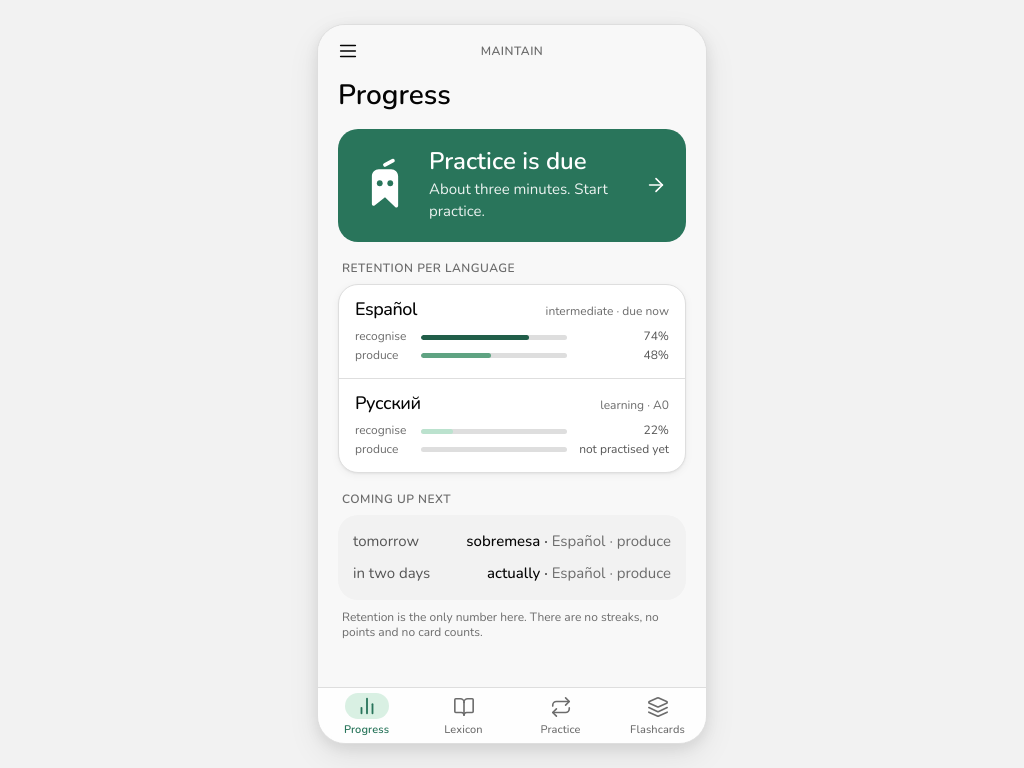
Test: the side panel › holds mode, what is up next and the languages, and closes on Escape
Click the button named "Open the side panel" at (348, 51), box [326,29,370,73]
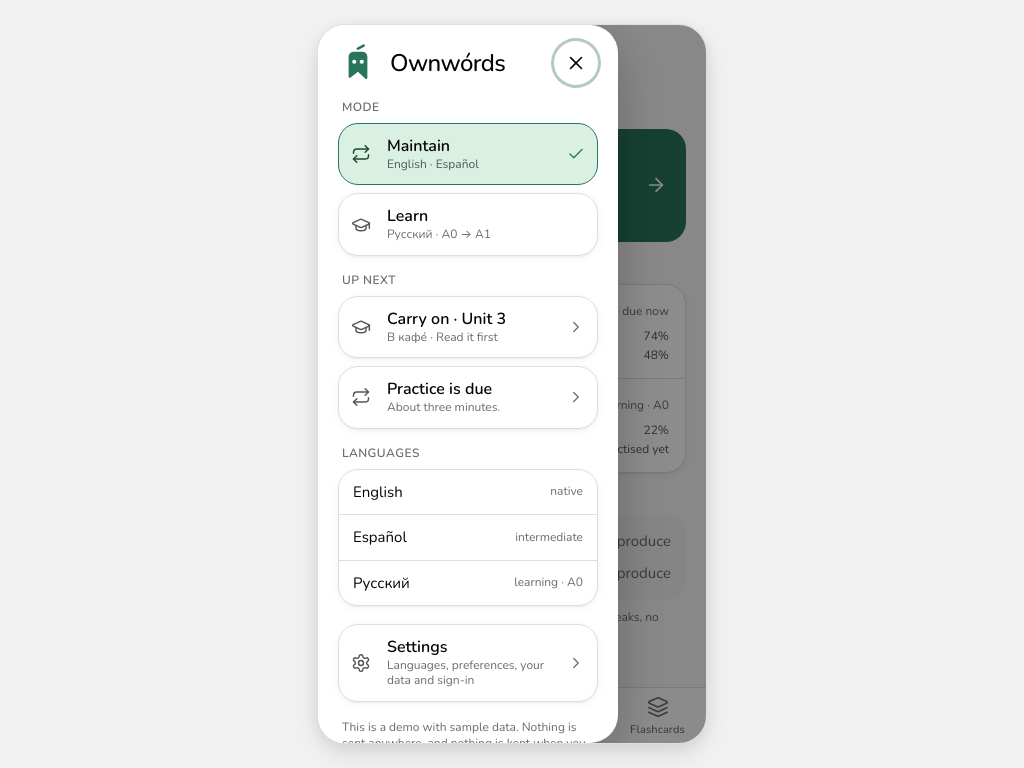
Result: the text "Русский" is shown at [353,572,410,594]
Result: the button "Carry on · Unit 3 В кафе́ · Read it first" is shown at [338,296,598,358]
Result: the button "Practice is due About three minutes." is shown at [338,366,598,429]
Press Escape
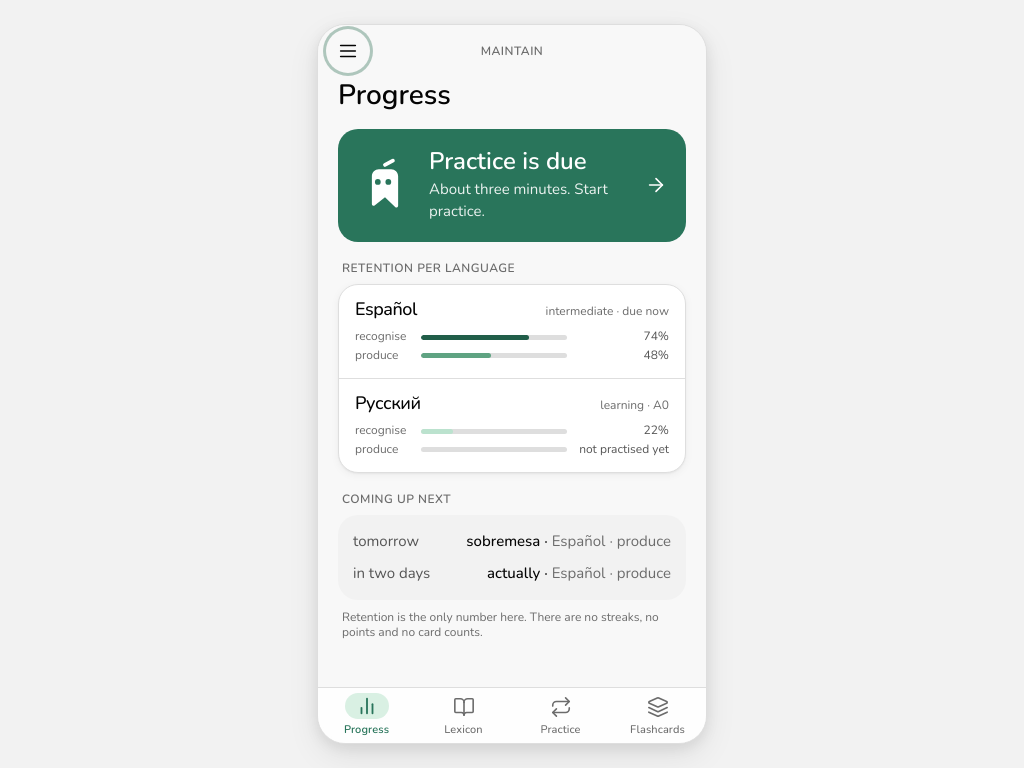
Result: the dialog is gone
